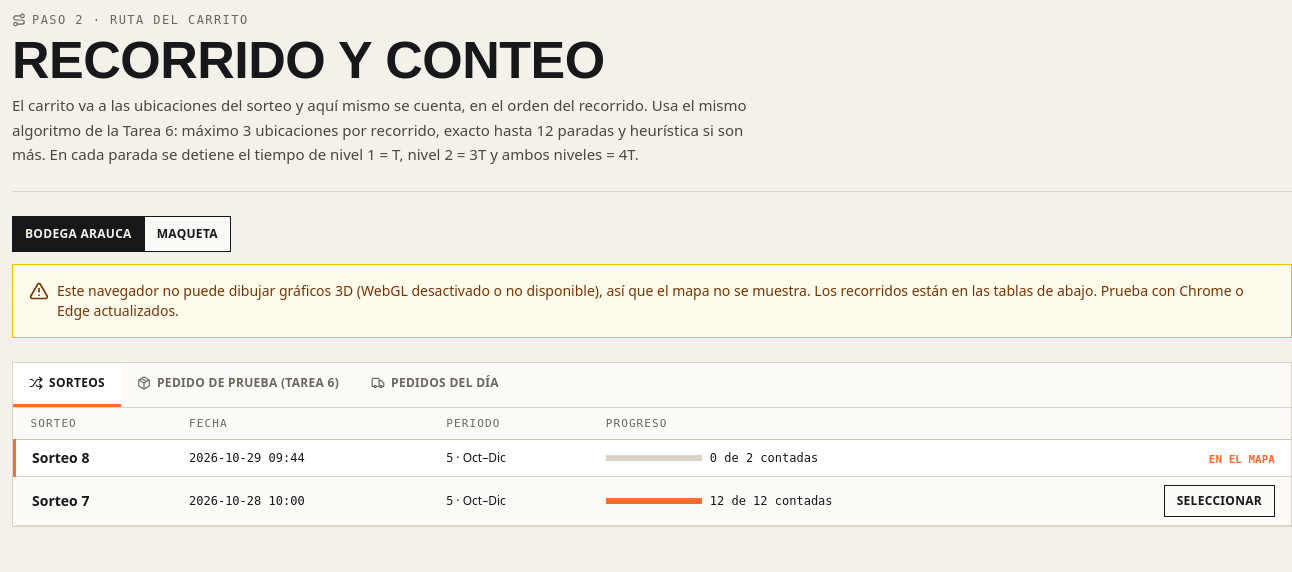
Test: Paso 2: Recorrido y conteo › en la vista maqueta, el origen sorteo muestra un aviso en vez de un recorrido vacío
Click the button "Maqueta" at coordinates (187, 234), box left=144, top=216, right=231, bottom=252
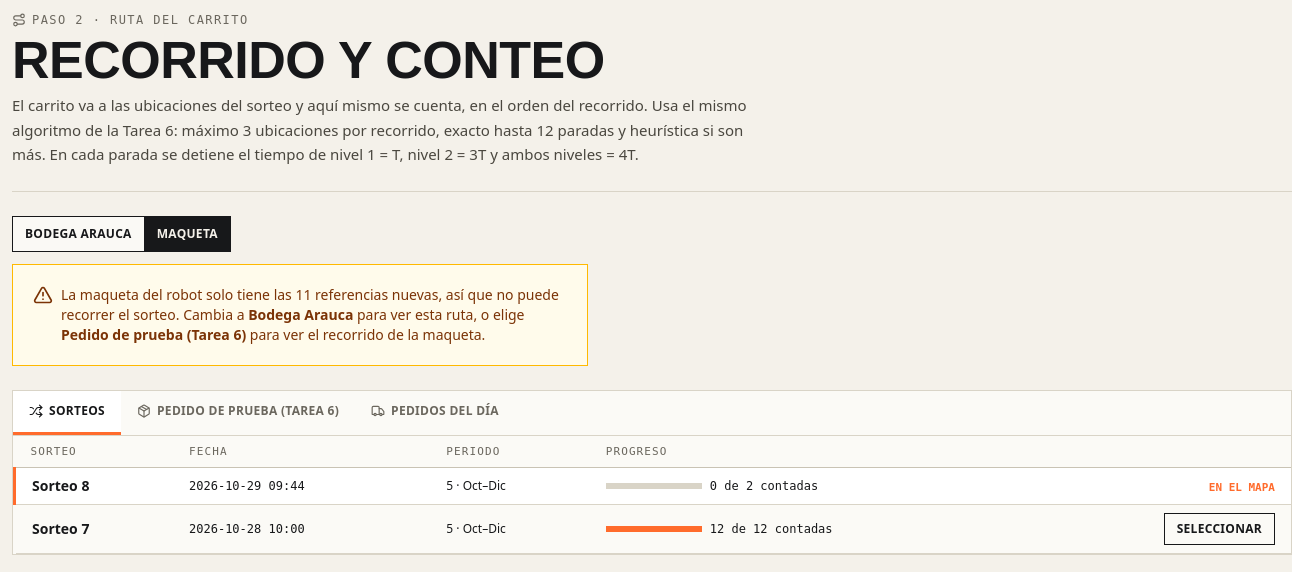
Now the text "solo tiene las 11 referencias nuevas" is shown, box left=61, top=284, right=559, bottom=324
